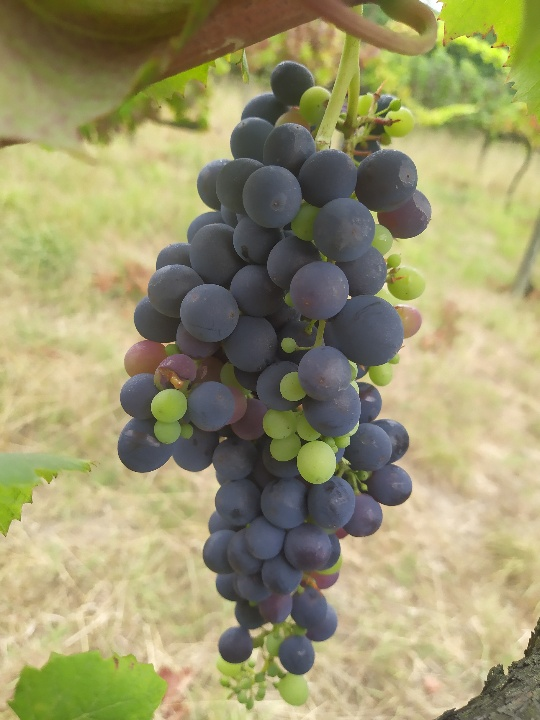grape: (116, 58, 434, 706)
